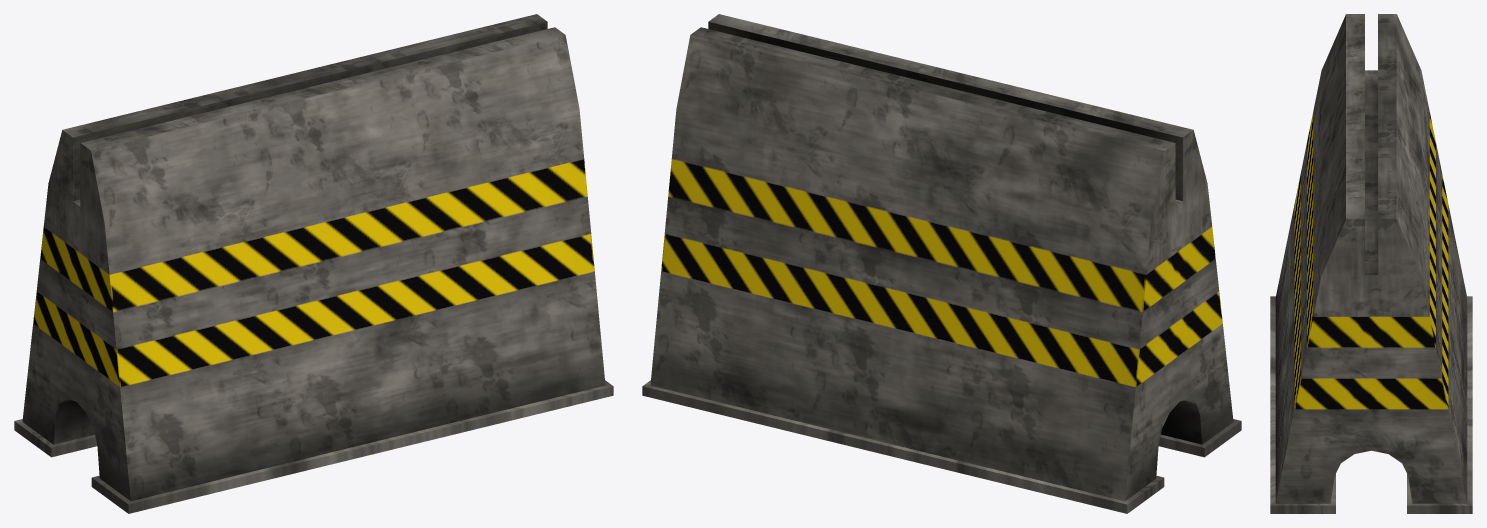
Rendered from BlockingProp.fbx.
3 views of the same model, side by side, from view 1: azimuth 30°, elevation 25°; view 2: azimuth 150°, elevation 25°; view 3: azimuth 270°, elevation 25° (orthographic). The views are drawn at different scales.
Parts seen in each view (by area): view 1: Cube.002; view 2: Cube.002; view 3: Cube.002.
Part boxes in pixels (x1,y1,x2,y2): Cube.002: [14, 14, 613, 513]; Cube.002: [642, 14, 1241, 513]; Cube.002: [1270, 14, 1472, 513].
Bounding box in the file's own units: 521 × 340 × 213.
Materials: 1 (1 with a texture image).
